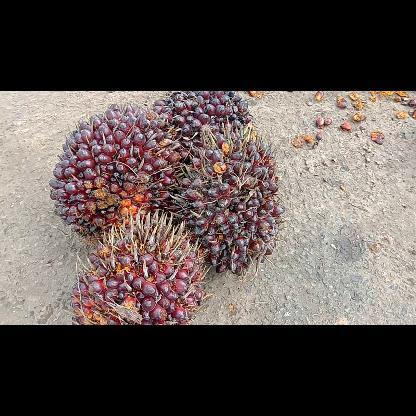Kurang masak: (172, 126, 288, 282), (66, 206, 209, 324), (149, 90, 255, 162)
TBS masak: (47, 100, 184, 249)
